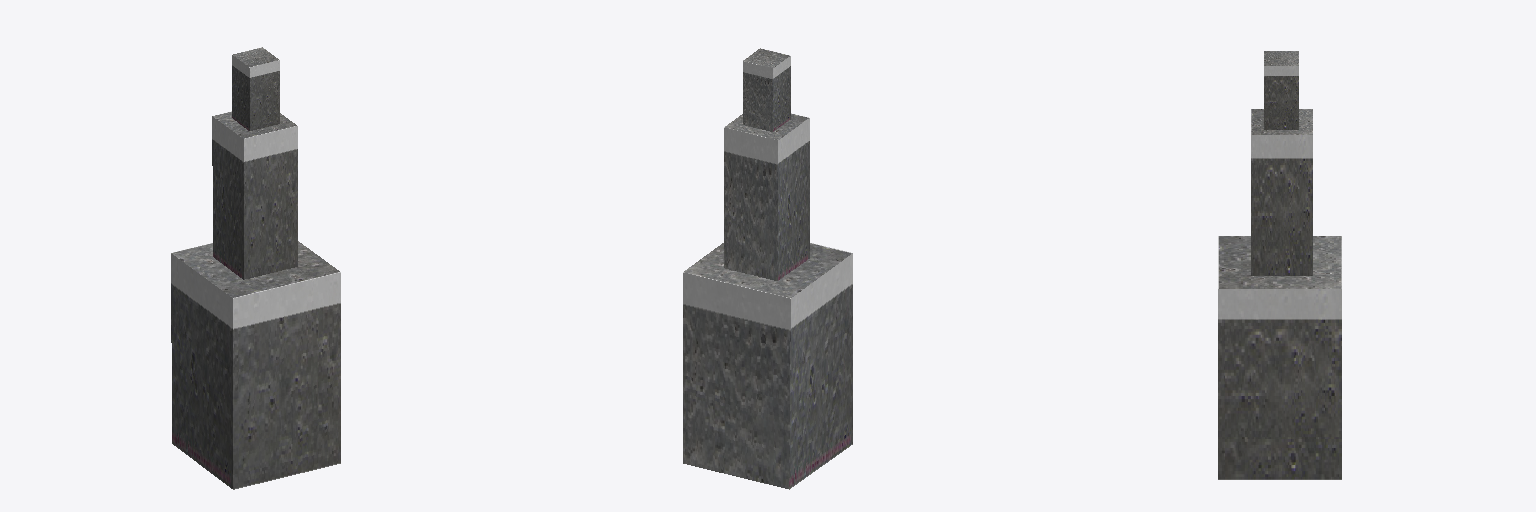
3 renders of one model, left to right at view 1: azimuth 30°, elevation 25°; view 2: azimuth 150°, elevation 25°; view 3: azimuth 270°, elevation 25°, orthographic.
Parts seen in each view (by area): view 1: pCube1, pCube2, pCube3; view 2: pCube1, pCube2, pCube3; view 3: pCube1, pCube2, pCube3.
Boxes of the visible parts, x1,y1,x2,y2 form: pCube1: [171, 241, 340, 489]; pCube2: [212, 111, 297, 279]; pCube3: [232, 47, 279, 130]; pCube1: [683, 243, 852, 489]; pCube2: [724, 113, 809, 280]; pCube3: [743, 48, 790, 131]; pCube1: [1218, 236, 1341, 479]; pCube2: [1251, 109, 1312, 275]; pCube3: [1264, 51, 1298, 129].
Size of the model in its own units: 1 by 3.5 by 1.
3 materials, 1 textured.